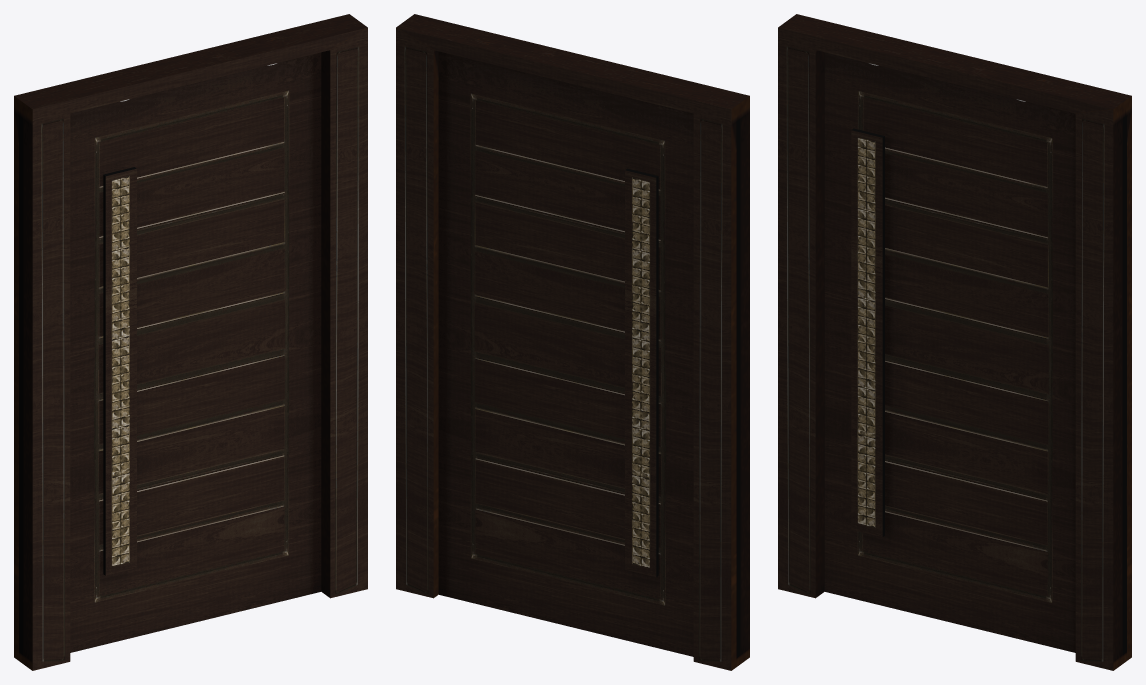
Rendered from DefaultDoor.fbx.
3 renders of one model, left to right at view 1: azimuth 30°, elevation 25°; view 2: azimuth 150°, elevation 25°; view 3: azimuth 330°, elevation 25°, orthographic.
Parts seen in each view (by area): view 1: door4; view 2: door4; view 3: door4.
Boxes of the visible parts, x1,y1,x2,y2 form: door4: (14,14,367,670); door4: (396,14,749,670); door4: (778,14,1131,670).
Size of the model in its own units: 250 by 400 by 26.49.
Materials: 3 (1 with a texture image).
